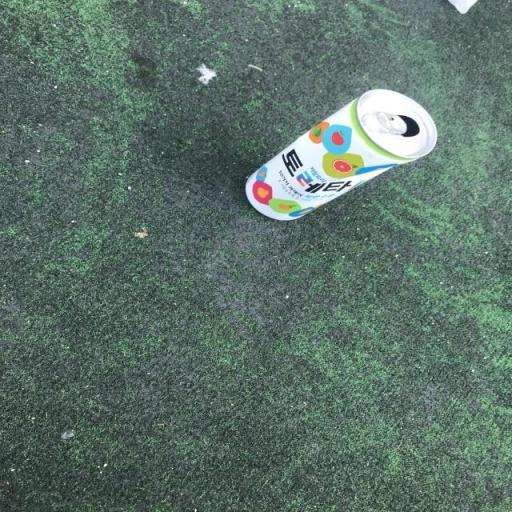metal: (218, 86, 462, 230)
